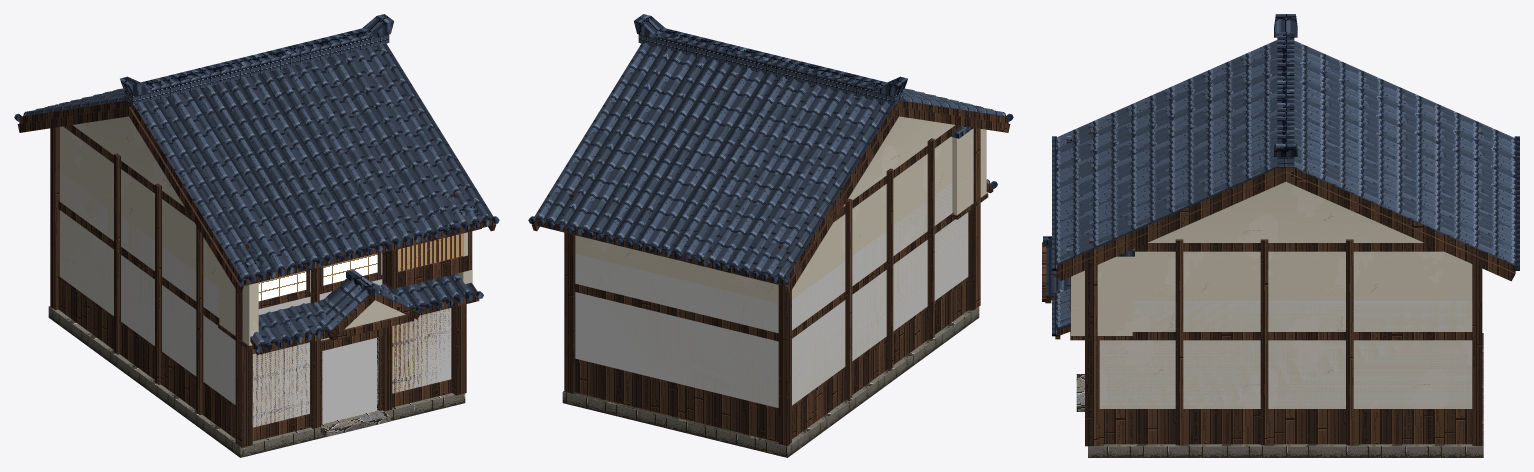
Rendered from JP_Mid_Townhouse_A.glb.
3 views of the same model, side by side, from view 1: azimuth 30°, elevation 25°; view 2: azimuth 150°, elevation 25°; view 3: azimuth 270°, elevation 25° (orthographic). The views are drawn at different scales.
Visible parts, largest first — view 1: JP_Mid_Townhouse_A, COL_JP_Mid_Townhouse_A; view 2: JP_Mid_Townhouse_A, COL_JP_Mid_Townhouse_A; view 3: JP_Mid_Townhouse_A, COL_JP_Mid_Townhouse_A.
Boxes of the visible parts, left/top/right/bottom form: JP_Mid_Townhouse_A: left=14, top=14, right=499, bottom=457; COL_JP_Mid_Townhouse_A: left=59, top=172, right=451, bottom=427; JP_Mid_Townhouse_A: left=528, top=14, right=1013, bottom=457; COL_JP_Mid_Townhouse_A: left=575, top=183, right=968, bottom=407; JP_Mid_Townhouse_A: left=1042, top=14, right=1519, bottom=457; COL_JP_Mid_Townhouse_A: left=1099, top=301, right=1472, bottom=408.
Bounding box in the file's own units: 7.42 × 8.31 × 11.23.
11 materials, 11 textured.
